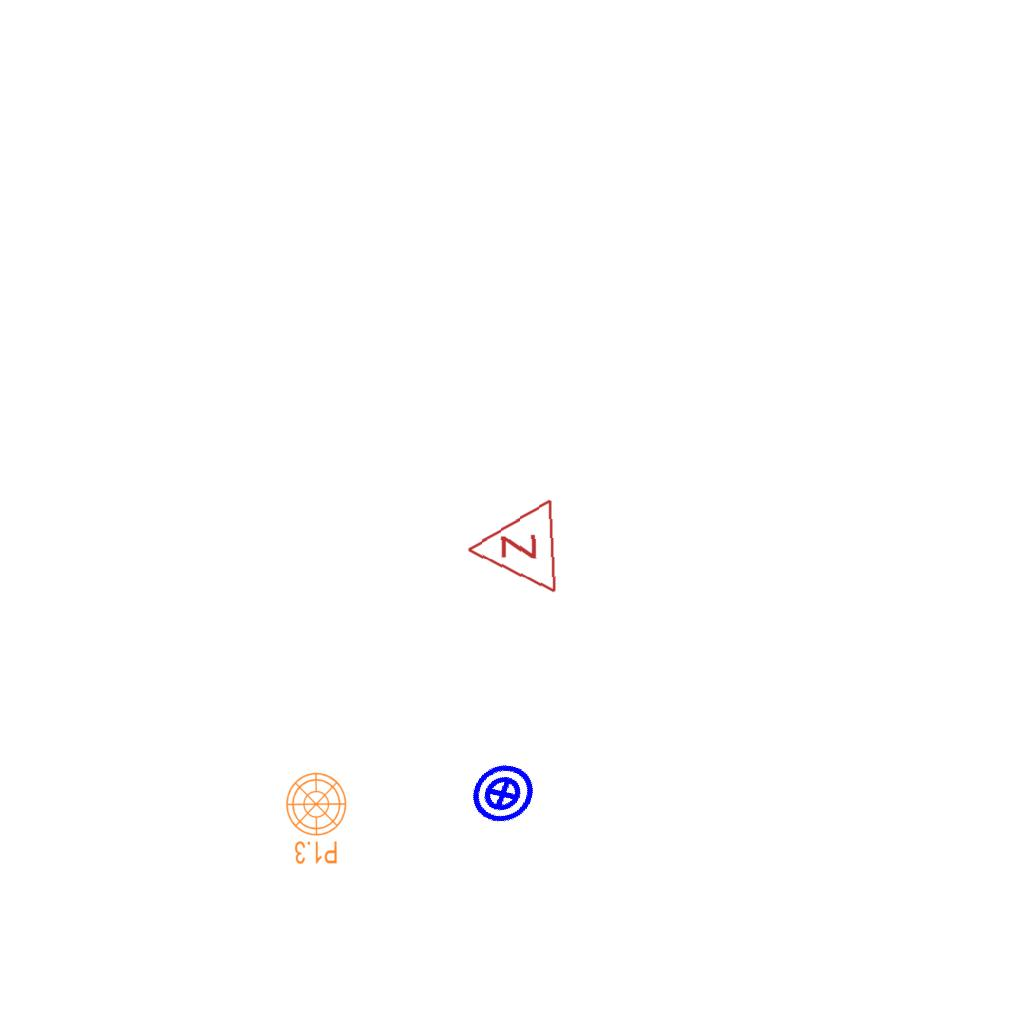Aufbaurundleuchte_LED_Treppenhaus: (279, 771, 348, 873)
Taster_beleuchtet: (458, 749, 548, 839)
Zimmersignalleuchte: (458, 497, 564, 601)
